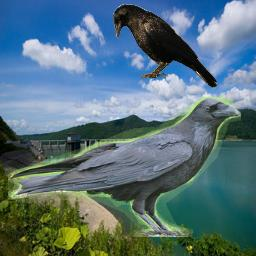Crow: (8, 97, 241, 237), (113, 4, 219, 88)
